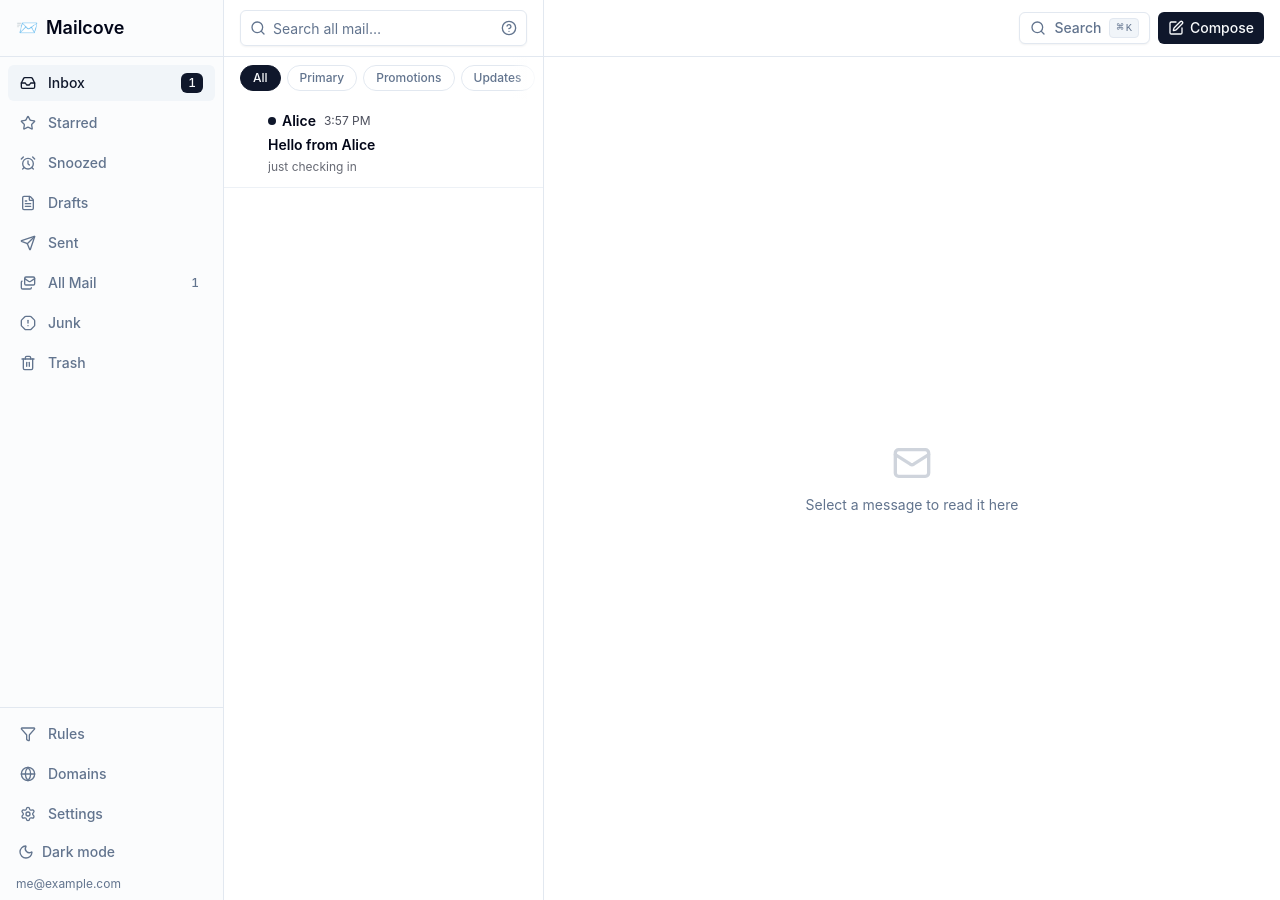
<App/> mail layout › opens the reading pane header when a row is selected
The width and height of the screenshot is (1280, 900).
What coordinates should you click on to do the following:
click the text "Hello from Alice"
I would click on:
 (322, 145)
Its box is [268,135,375,155].
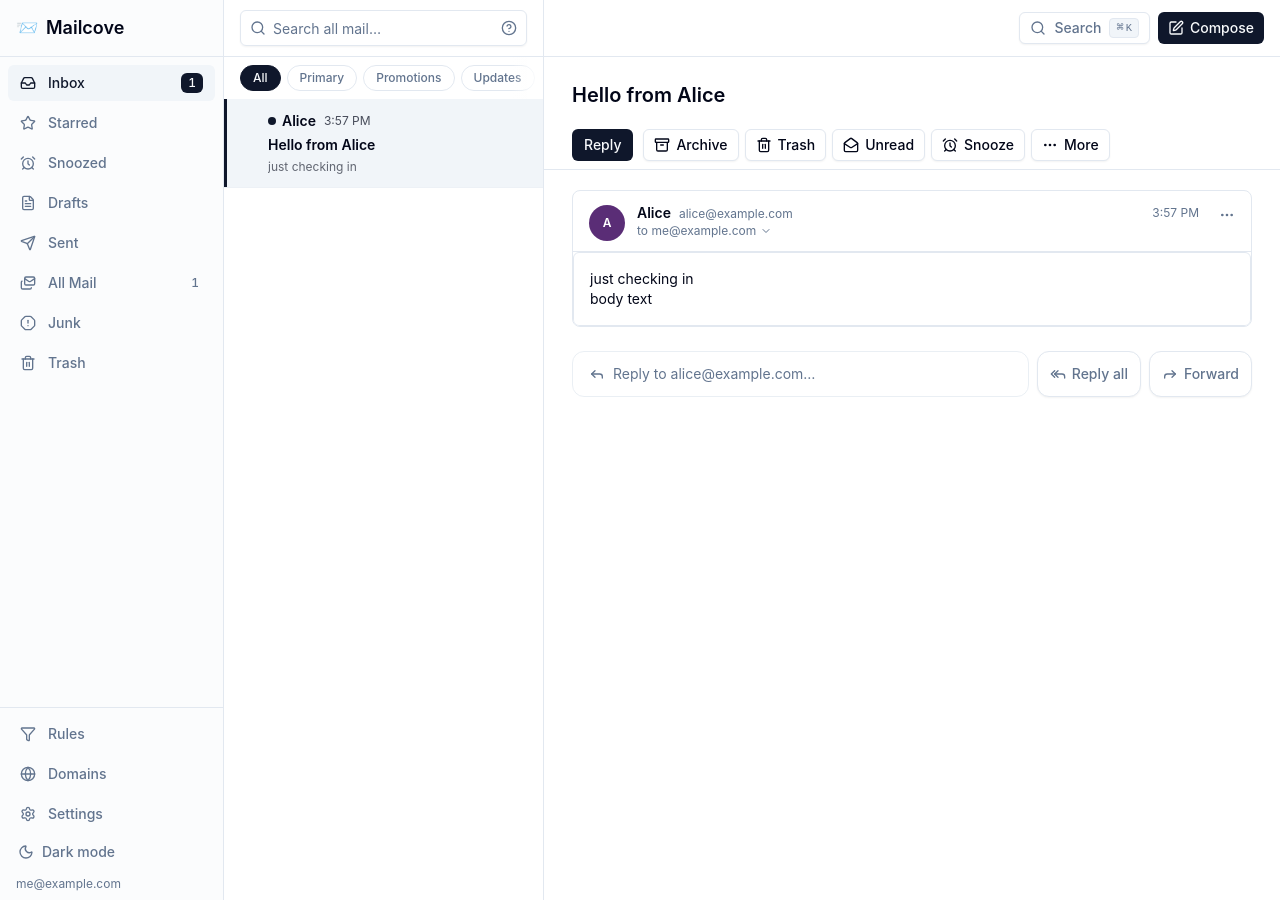
Expected: the text "Alice <alice@example.com>" is not shown
Expected: the heading "Hello from Alice" is shown, [572,83,725,107]
Expected: the 2nd text "Alice" is shown, [637,203,671,223]
What coordinates should you click on to do the following:
click the button "to me@example.com"
I would click on:
 (705, 231)
Its box is [633,223,776,239].
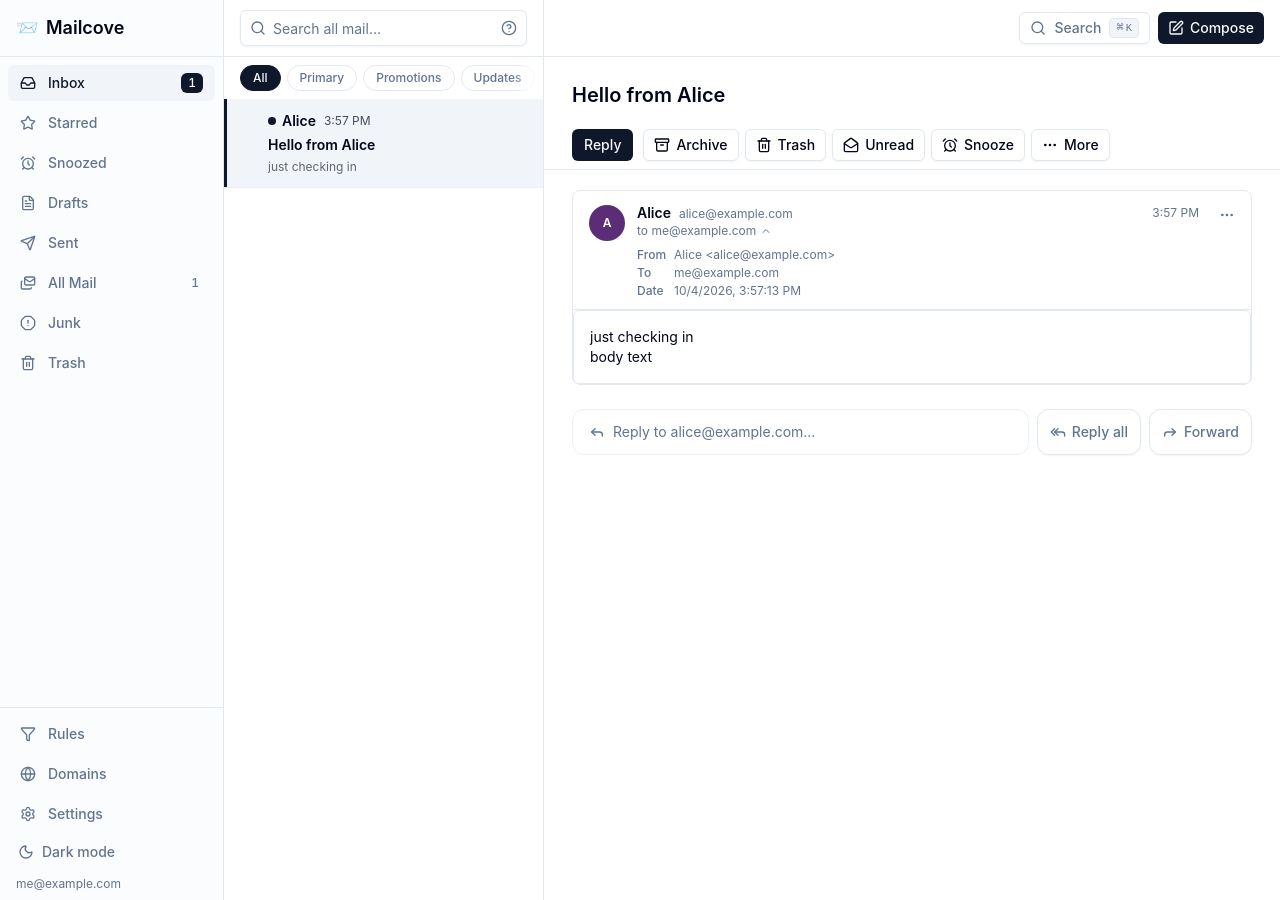
Expected: the text "Alice <alice@example.com>" is shown, [674,247,835,262]
